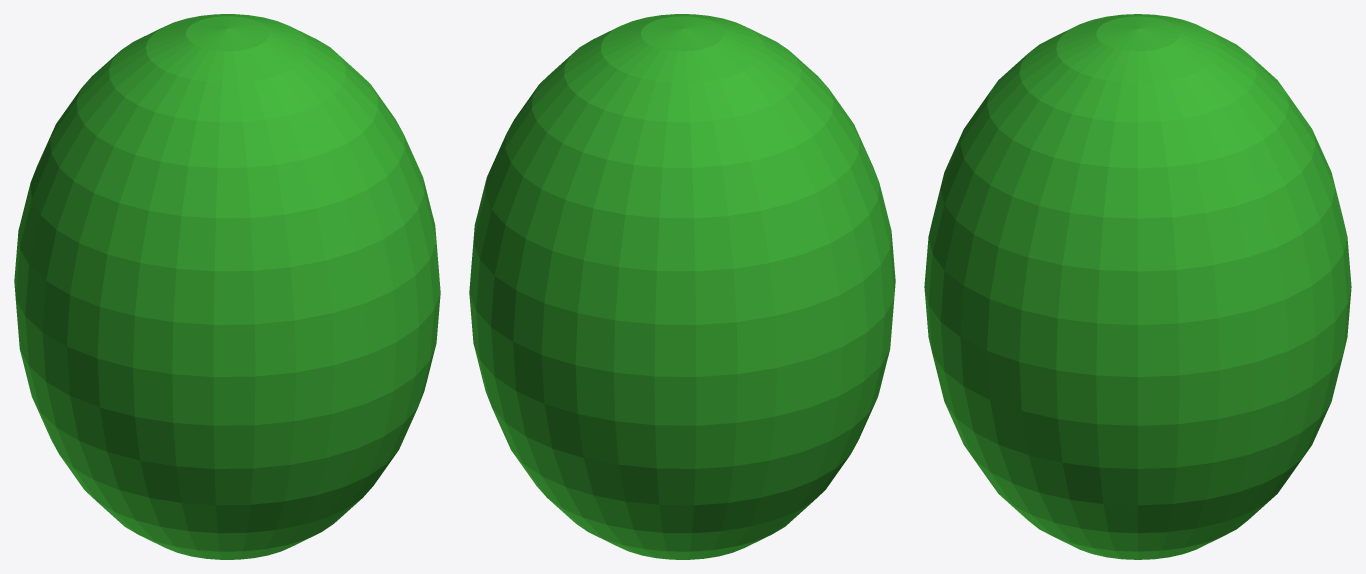
The model's file is potplant_top.glb.
The picture shows the model from 3 angles, left to right: view 1: azimuth 30°, elevation 25°; view 2: azimuth 150°, elevation 25°; view 3: azimuth 270°, elevation 25°; orthographic projection.
Visible parts, largest first — view 1: Sphere; view 2: Sphere; view 3: Sphere.
Boxes of the visible parts, x1=… form: Sphere: x1=14, y1=14, x2=440, y2=559; Sphere: x1=469, y1=14, x2=895, y2=559; Sphere: x1=924, y1=14, x2=1351, y2=559.
Bounding box in the file's own units: 1.5 × 2 × 1.5.
